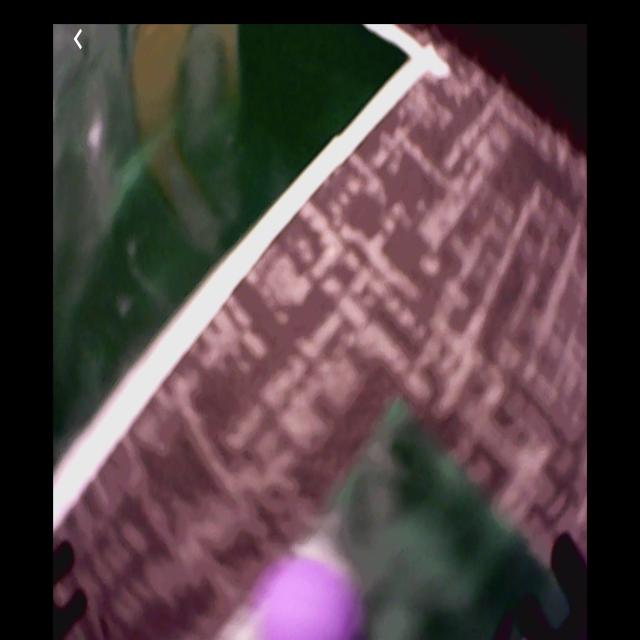ball: (270, 552, 359, 640)
